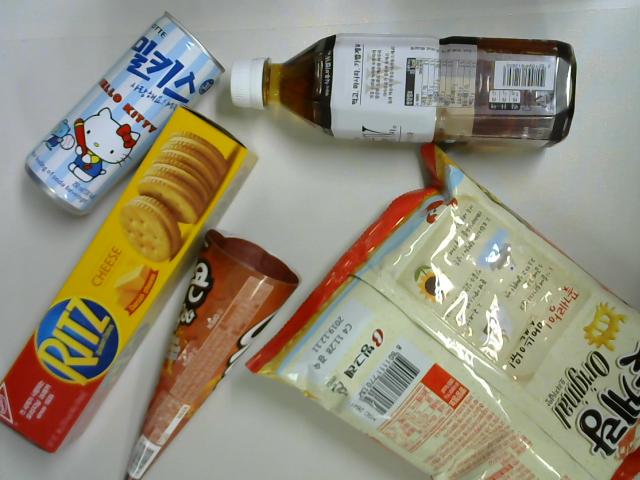Crabrang: (243, 143, 640, 480)
GooGoo_Cone_CVS: (124, 228, 302, 480)
Milkies_250ml: (19, 8, 229, 219)
Post-meal_recipe_W_tea_500ml: (231, 28, 579, 145)
Ritz_Sand_Cracker: (1, 105, 263, 456)
